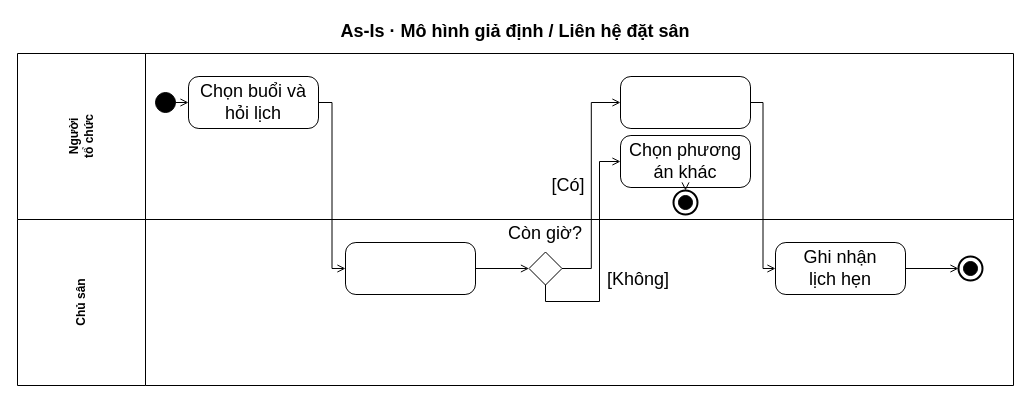
This 1031x403 diagram has some shape labels left out. The shapes that lost their labels are listed below. From the top down, each one's centre as x and y in pixels, then its label:
pixel 685 102: Xác nhận giờ và giá
pixel 410 268: Kiểm tra lịch
